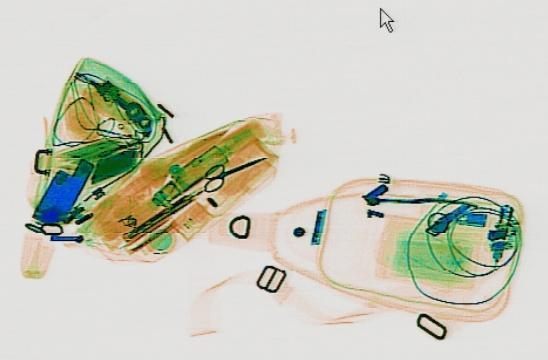Scissors: (186, 147, 277, 192)
